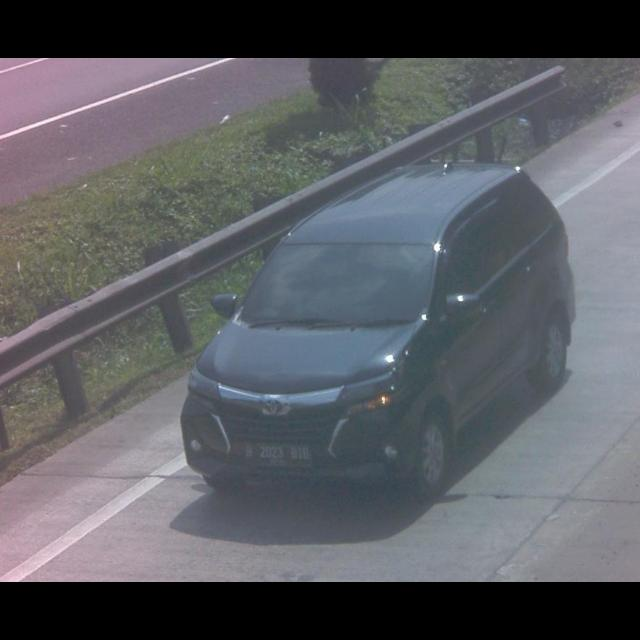plate: (243, 440, 315, 470)
